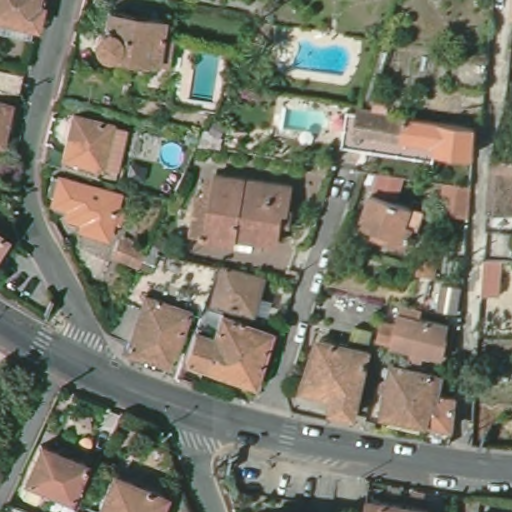pool: (290, 36, 355, 80), (186, 52, 222, 107), (280, 101, 331, 134), (157, 139, 185, 171)
